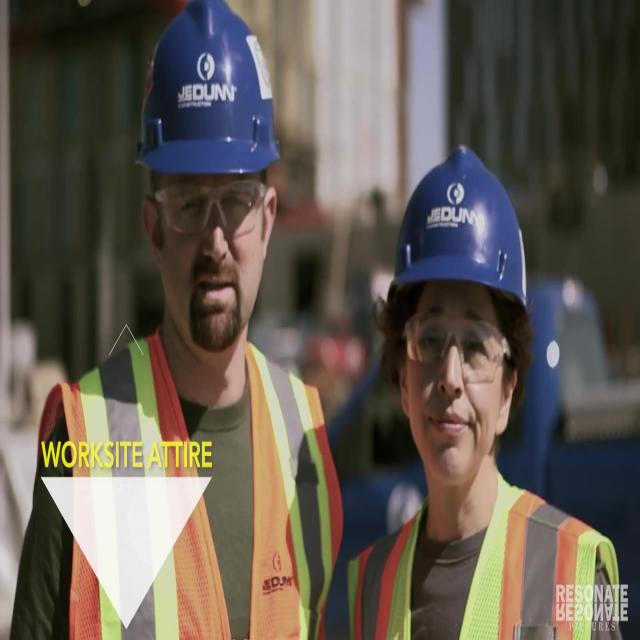Reflective-Jacket: (49, 329, 347, 637), (346, 479, 630, 640)
Safety-Helmet: (378, 140, 538, 329), (131, 4, 285, 194)
